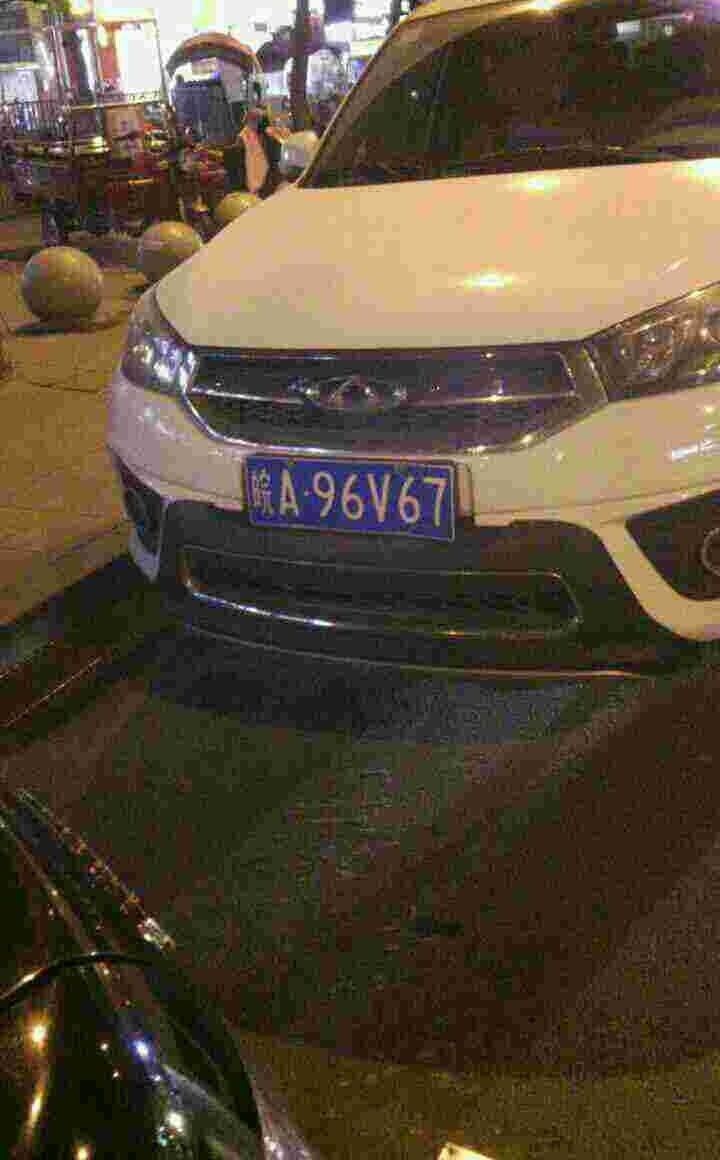license_plate: (243, 452, 462, 540)
